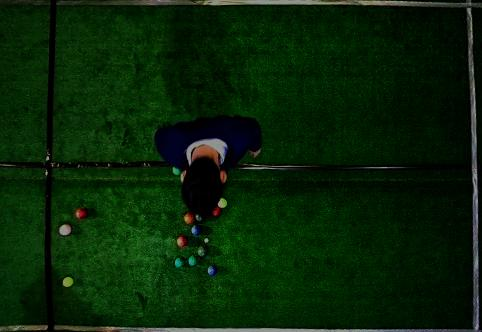blue: (191, 225, 202, 235), (207, 265, 217, 276)
green: (198, 246, 209, 257), (174, 257, 185, 268), (188, 255, 198, 266), (172, 165, 182, 176), (195, 213, 206, 221)
red: (59, 224, 71, 236), (75, 208, 88, 219), (177, 235, 188, 247), (184, 213, 196, 224), (210, 206, 221, 216)
vline: (1, 0, 56, 331), (464, 0, 481, 332)
white: (204, 238, 209, 243)
yellow: (62, 276, 74, 287), (217, 197, 227, 208)
